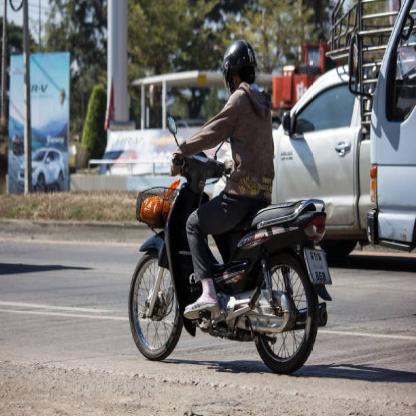Motorcycle: (126, 129, 325, 380)
